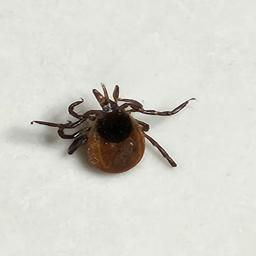Ixodes scapularis: (31, 83, 196, 173)
